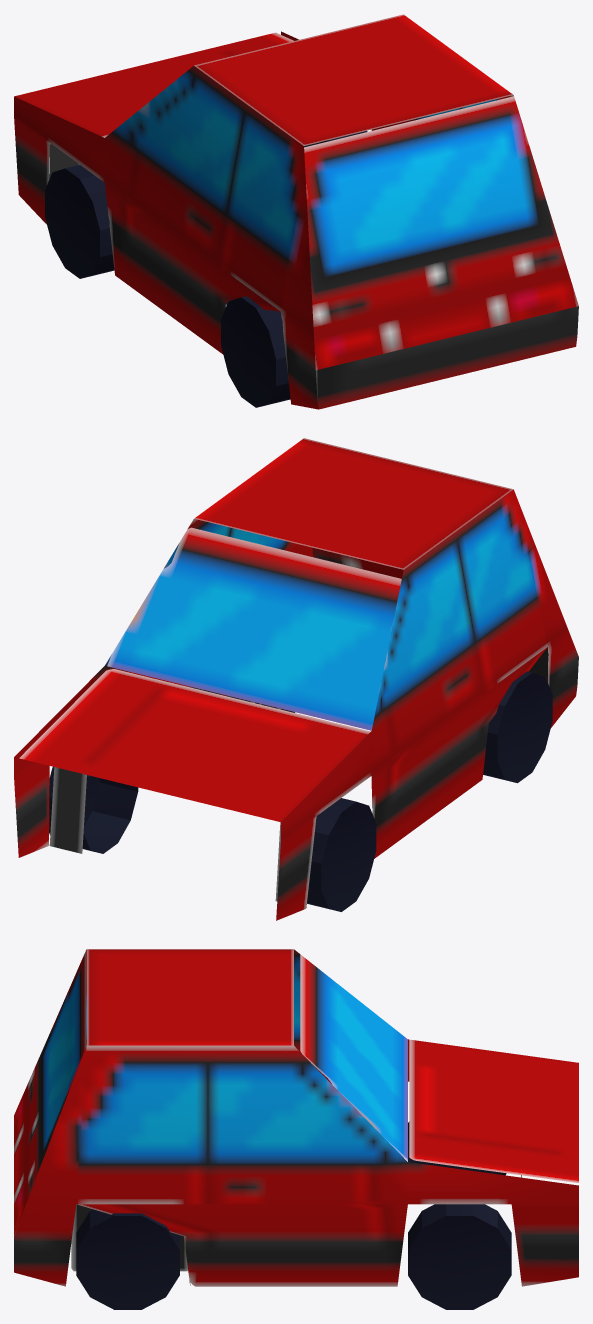
Rendered from car_red.glb.
3 renders of one model, top to bottom at view 1: azimuth 30°, elevation 25°; view 2: azimuth 150°, elevation 25°; view 3: azimuth 270°, elevation 25°, orthographic. The views are drawn at different scales.
Parts seen in each view (by area): view 1: CarRed; view 2: CarRed; view 3: CarRed.
Boxes of the visible parts, x1,y1,x2,y2 form: CarRed: (14, 14, 578, 409); CarRed: (14, 438, 578, 920); CarRed: (14, 949, 578, 1309).
Size of the model in its own units: 1.82 by 1.66 by 3.42.
1 material, 1 textured.
